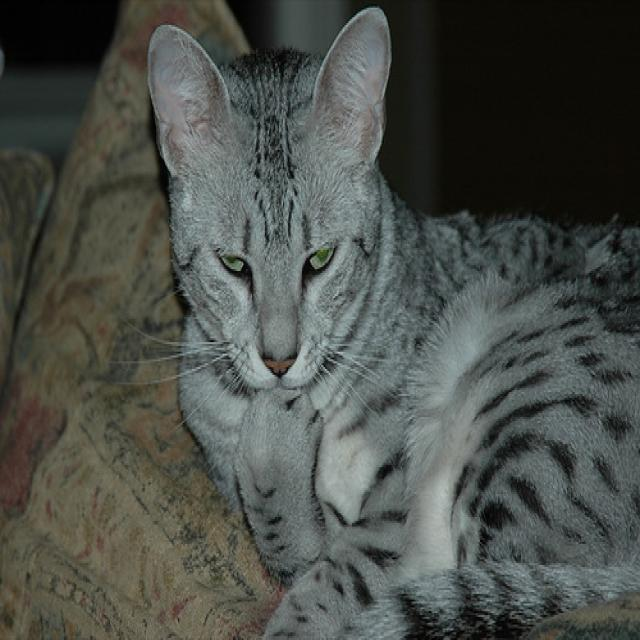Egyptian_Mau: (147, 4, 394, 400)
